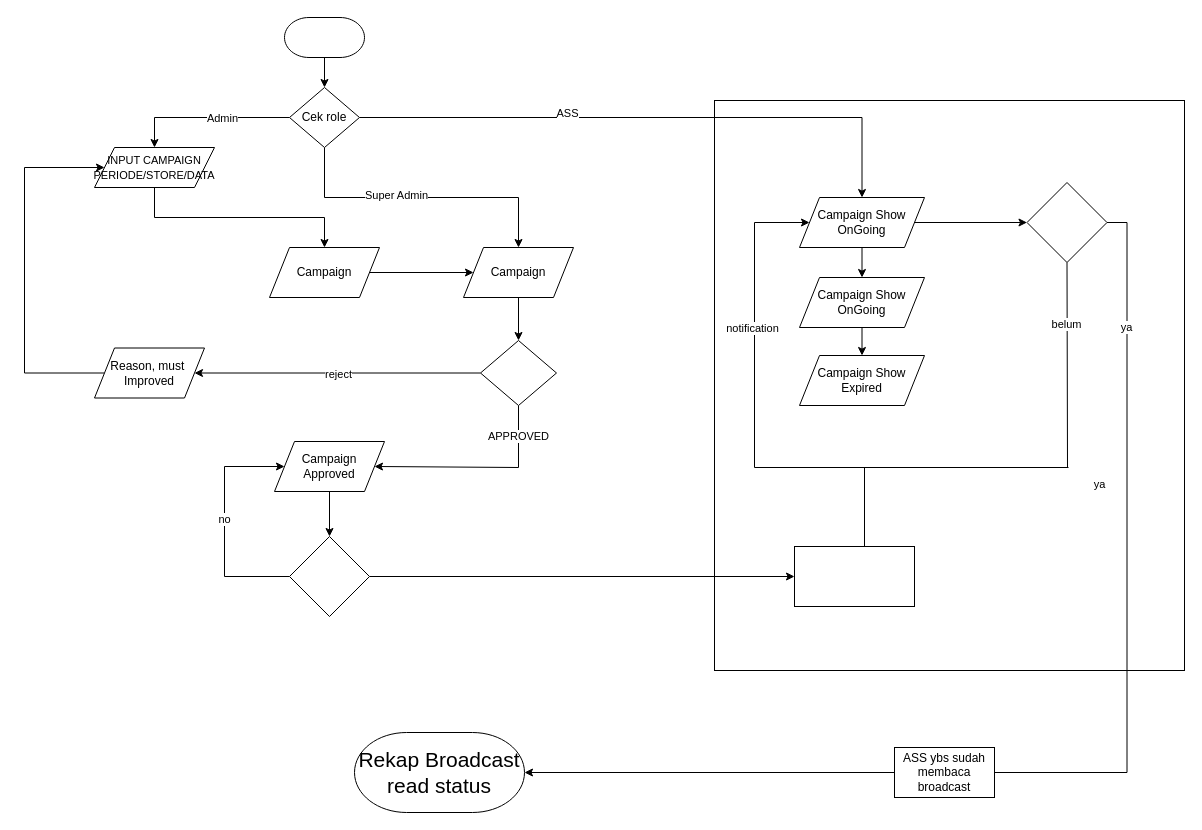
Some shapes in this 1202 by 830 pixel diagram are drawn without their labels. The shapes that lost their labels are listed below. From the top down, each one's box as (x1, y1, x2, y2) in pixels, then its label:
(284, 16, 364, 58): login
(1026, 182, 1107, 262): Sudah baca?
(480, 340, 556, 406): Approved?
(288, 536, 370, 616): start periode?
(794, 546, 914, 606): Campaign Show
